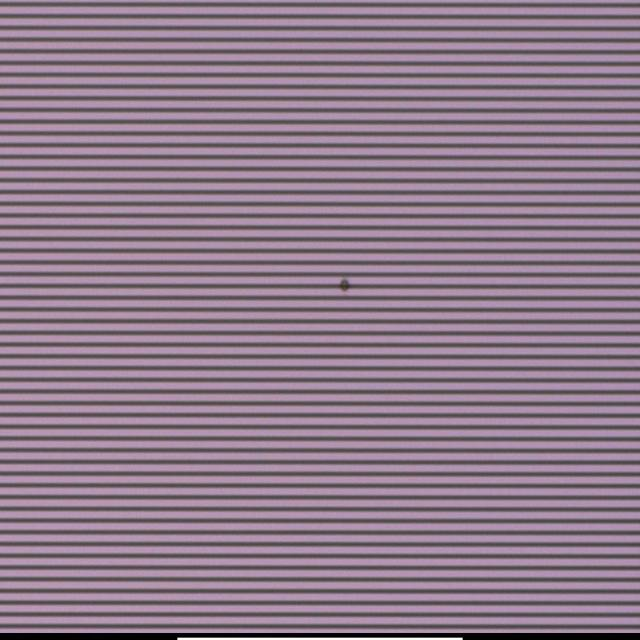03_intrusion: (331, 268, 356, 298)
